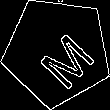M_NW: (23, 17, 91, 86)
